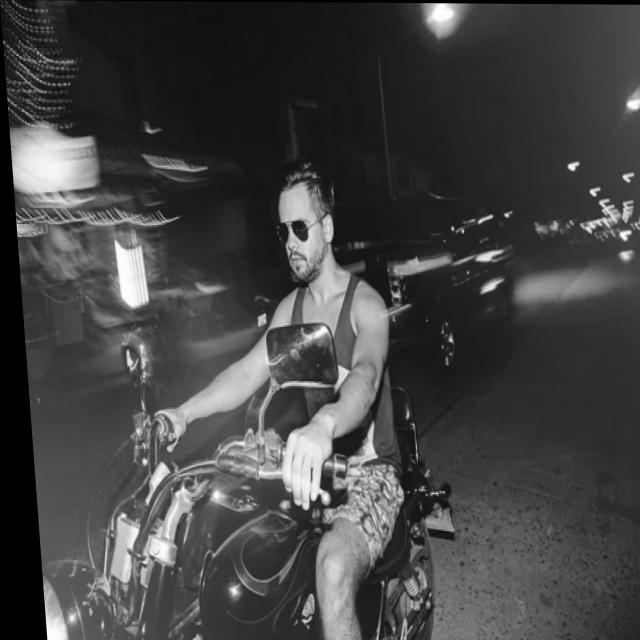without helmet: (267, 158, 343, 299)
